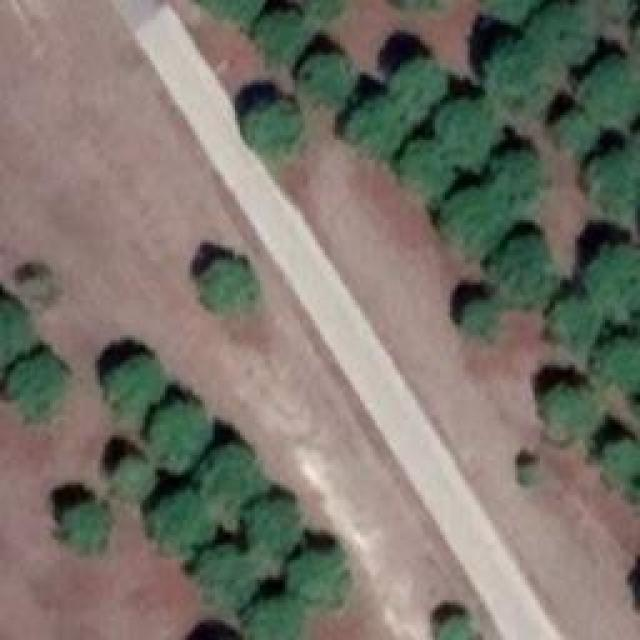Tree: (483, 38, 558, 105), (535, 0, 606, 66), (195, 543, 259, 616), (5, 348, 63, 428), (587, 52, 640, 139), (153, 494, 219, 562), (538, 377, 601, 448), (488, 230, 552, 298), (440, 187, 499, 259), (587, 237, 640, 317), (103, 358, 170, 420), (490, 145, 550, 214), (398, 135, 457, 204), (155, 400, 214, 468), (245, 500, 309, 562), (200, 458, 257, 524), (288, 540, 344, 605), (245, 98, 303, 158), (550, 298, 606, 360), (200, 252, 257, 310), (440, 100, 497, 156), (300, 50, 348, 116), (592, 155, 640, 220), (350, 95, 405, 151), (598, 437, 640, 508), (392, 53, 438, 116), (60, 500, 118, 549), (553, 107, 601, 164), (602, 333, 639, 406), (243, 595, 298, 640), (455, 290, 501, 341), (115, 463, 158, 515), (252, 8, 298, 55), (0, 298, 30, 370), (202, 0, 259, 25), (482, 0, 539, 25), (433, 610, 481, 639), (515, 456, 547, 498), (295, 0, 348, 22)
